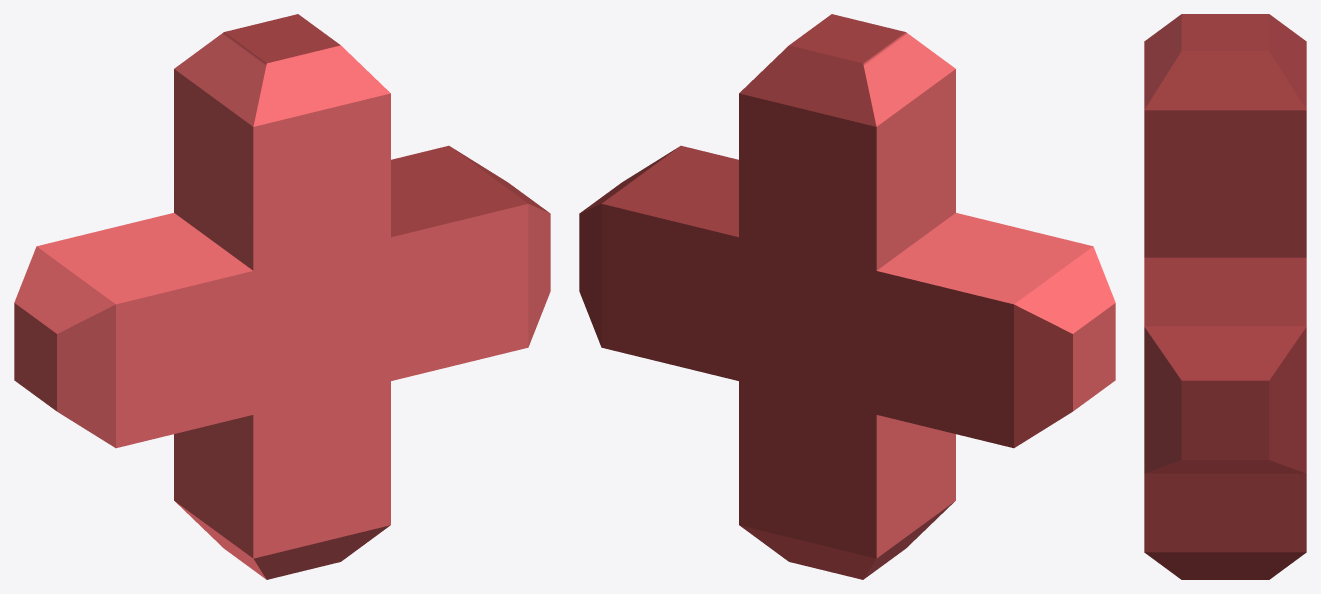
File: item_power_ups_life.fbx
3 renders of one model, left to right at view 1: azimuth 30°, elevation 25°; view 2: azimuth 150°, elevation 25°; view 3: azimuth 270°, elevation 25°, orthographic. The views are drawn at different scales.
Visible parts, largest first — view 1: Vida; view 2: Vida; view 3: Vida.
Boxes of the visible parts, left/top/right/bottom form: Vida: left=14, top=14, right=550, bottom=579; Vida: left=579, top=14, right=1115, bottom=579; Vida: left=1144, top=14, right=1306, bottom=579.
Size of the model in its own units: 197 by 197 by 54.87.
